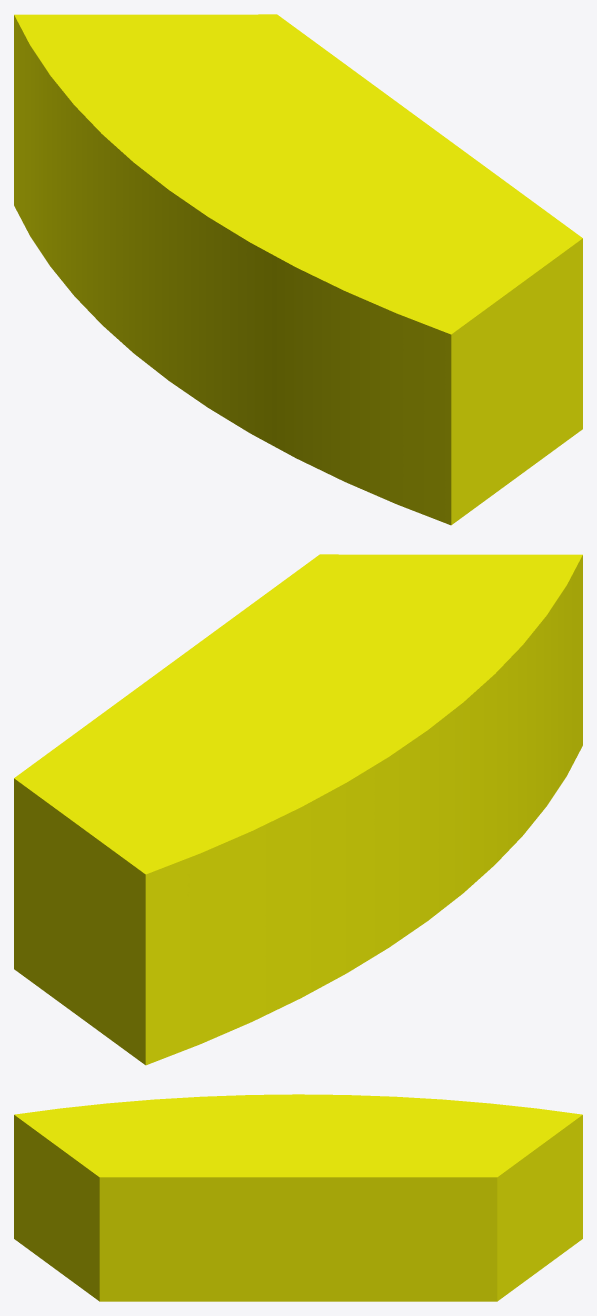
File: amarelo.obj
3 renders of one model, top to bottom at view 1: azimuth 30°, elevation 25°; view 2: azimuth 150°, elevation 25°; view 3: azimuth 270°, elevation 25°, orthographic. The views are drawn at different scales.
Visible parts, largest first — view 1: Mesh1 Group1 Model; view 2: Mesh1 Group1 Model; view 3: Mesh1 Group1 Model.
Boxes of the visible parts, x1,y1,x2,y2 form: Mesh1 Group1 Model: (14,14,582,525); Mesh1 Group1 Model: (14,554,582,1065); Mesh1 Group1 Model: (14,1094,582,1301).
Size of the model in its own units: 29.34 by 20.5 by 85.1.
